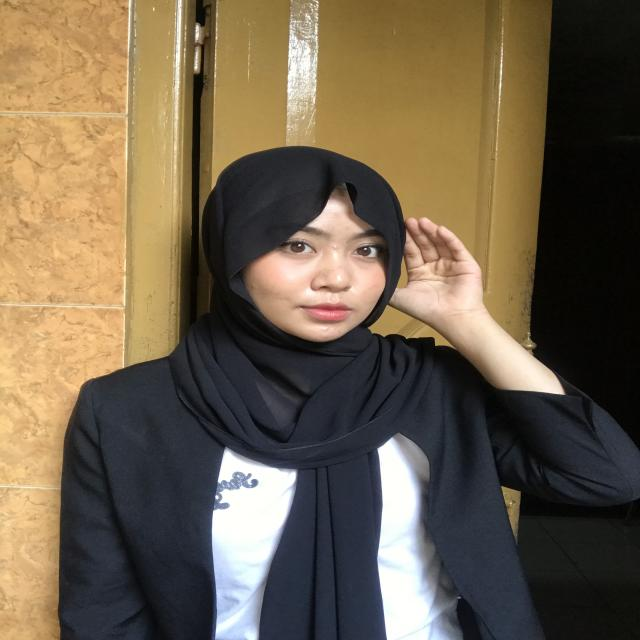mendengar: (392, 205, 527, 365)
